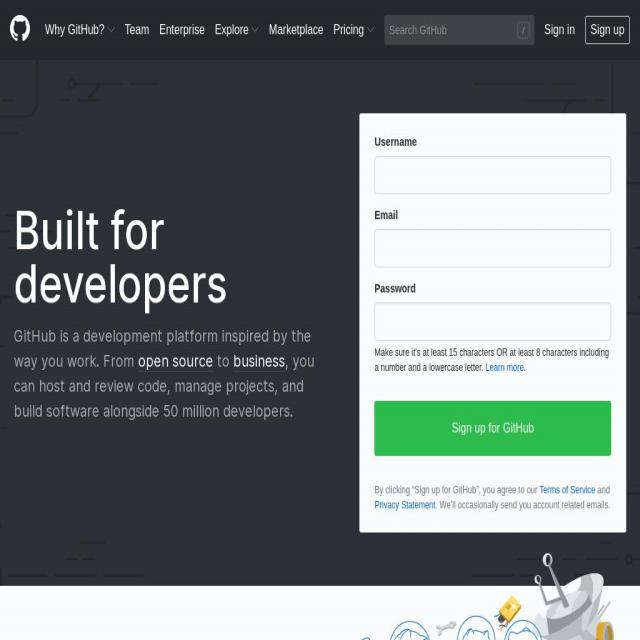login-option: (546, 14, 582, 44)
navigation-links: (41, 15, 378, 62)
search: (385, 12, 539, 53)
sign-up-form: (368, 122, 618, 468)
sign-up-option: (588, 16, 632, 46)
